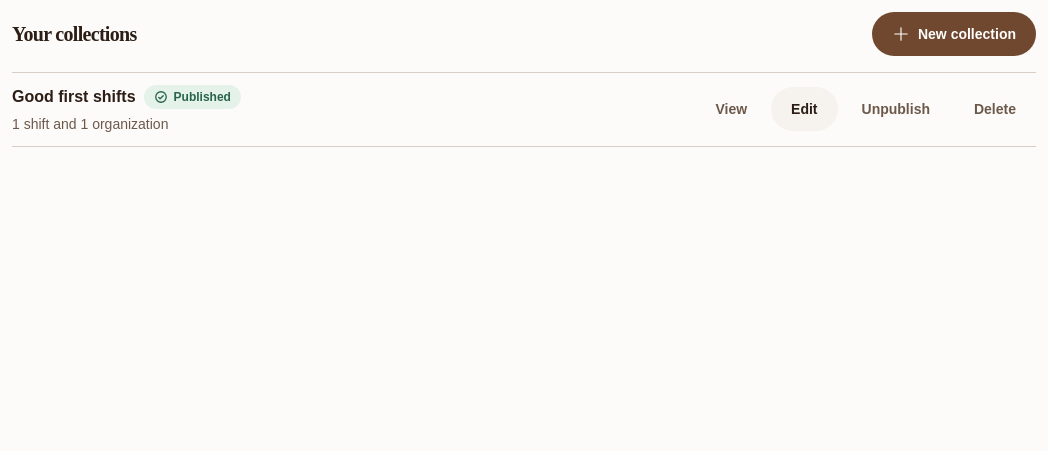
Test: CollectionManager › shows the catalog error when a write is refused
Click the button with aria-label "Delete Good first shifts" at (995, 109), box [954,87,1036,131]
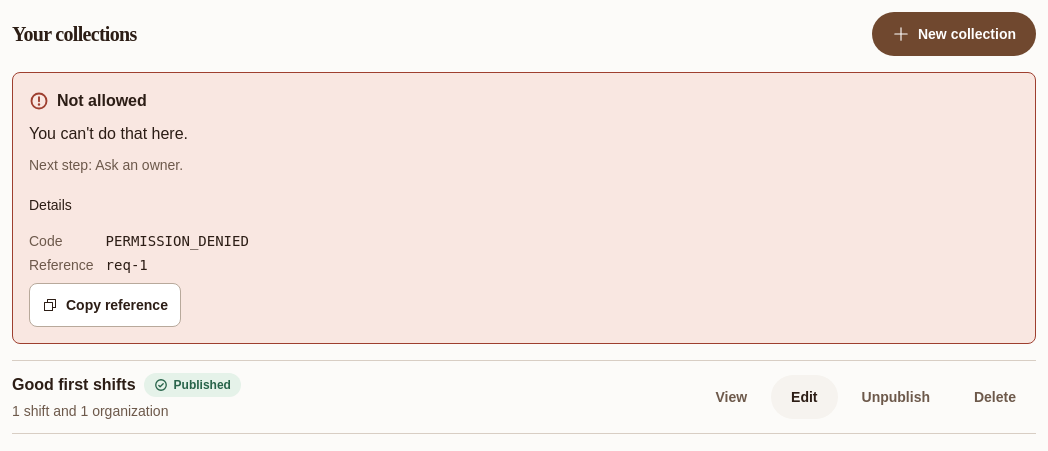
Check: the text "You can't do that here." is shown, box [29,125,188,142]
